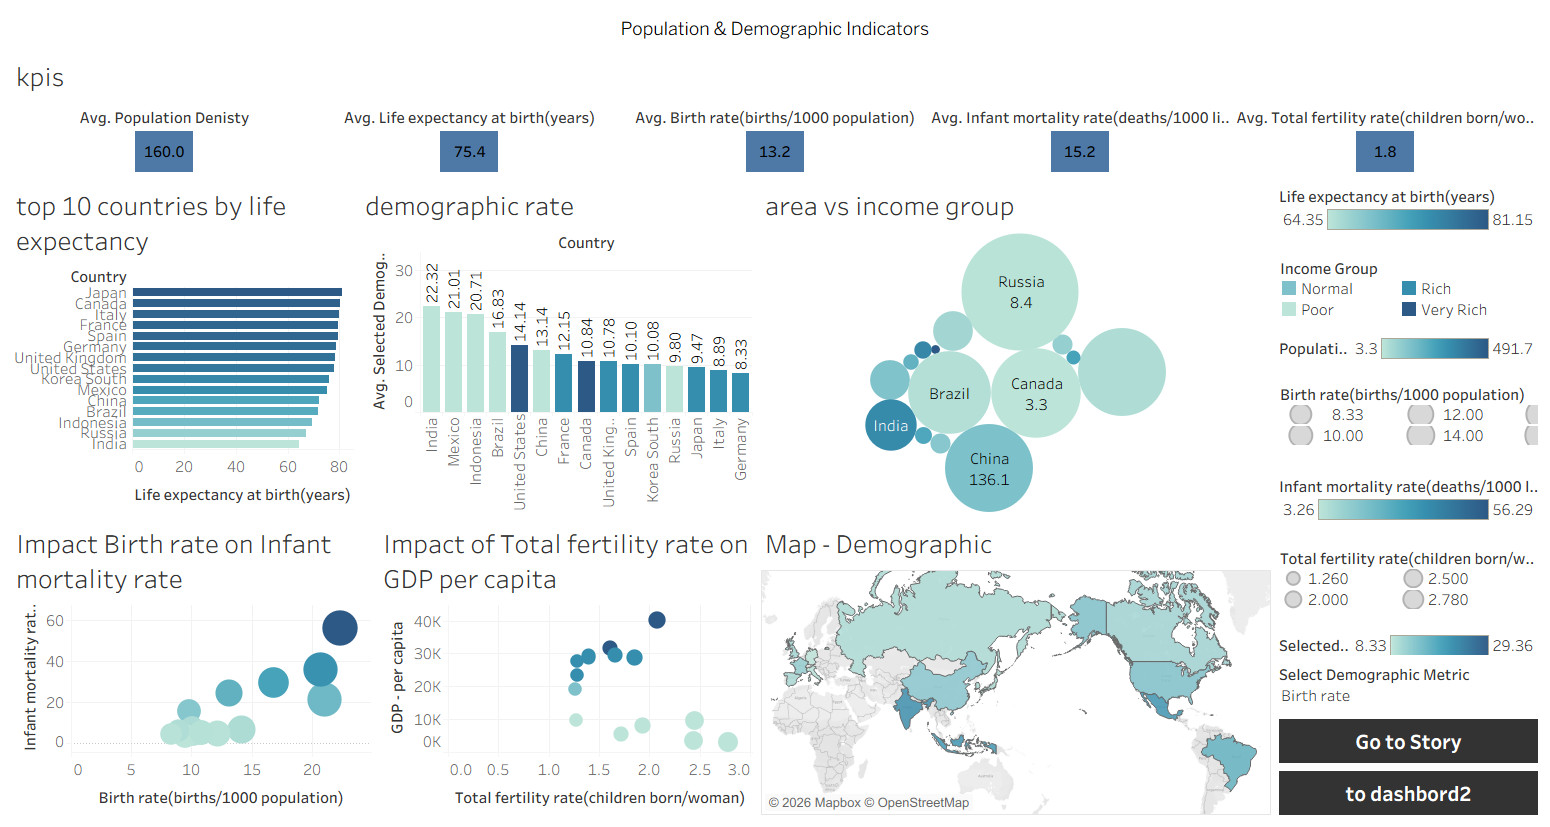

Layout of this report page (visuals, bound fields, positions):
{"tool":"tableau","page":{"name":"Dashboard 1","canvas":[1550,827],"ordinal":0},"visuals":[{"type":"text","box":[8,8,1534,41]},{"type":"worksheet","title":"kpis 1","mark":"Square","box":[8,49,1534,129]},{"type":"worksheet","title":"top 10 countries by life expectancy","mark":"Automatic","rows":["Country"],"cols":["Life expectancy at birth(years)"],"box":[8,178,349.5,337.5]},{"type":"worksheet","title":"demographic rate","mark":"Automatic","rows":["Calculation_1860428019335172"],"cols":["Country"],"box":[357.5,178,399.3,337.5]},{"type":"worksheet","title":"area vs income group","mark":"Circle","box":[756.7,178,518.3,337.5]},{"type":"legend","title":"top 10 countries by life expectancy","param":"[federated.0arbnf50yyzaqr17demmi00kzyr3].[sum:Life expectancy at birth(years):qk","box":[1275,178,267,73]},{"type":"legend","title":"demographic rate","param":"[federated.0arbnf50yyzaqr17demmi00kzyr3].[none:Calculation_1860428013744130:nk]","box":[1275,251,267,78]},{"type":"legend","title":"area vs income group","param":"[federated.0arbnf50yyzaqr17demmi00kzyr3].[sum:Calculation_1860428013441025:qk]","box":[1275,329,267,48]},{"type":"legend","title":"Impact Birth rate on Infant mortality rate","param":"[federated.0arbnf50yyzaqr17demmi00kzyr3].[sum:Birth rate(births/1000 population)","box":[1275,377,267,92]},{"type":"legend","title":"Impact Birth rate on Infant mortality rate","param":"[federated.0arbnf50yyzaqr17demmi00kzyr3].[sum:Infant mortality rate(deaths/1000 ","box":[1275,469,267,73]},{"type":"worksheet","title":"Impact Birth rate on Infant mortality rate","mark":"Circle","rows":["Infant mortality rate(deaths/1000 live births)"],"cols":["Birth rate(births/1000 population)"],"box":[8,515.5,366.8,303.5]},{"type":"worksheet","title":"Impact of Total fertility rate on GDP per capita","mark":"Circle","rows":["GDP - per capita"],"cols":["Total fertility rate(children born/woman)"],"box":[374.8,515.5,382.2,303.5]},{"type":"worksheet","title":"Map - Demographic","mark":"Automatic","box":[757,515.5,518,303.5]},{"type":"legend","title":"Impact of Total fertility rate on GDP per capita","param":"[federated.0arbnf50yyzaqr17demmi00kzyr3].[sum:Total fertility rate(children born","box":[1275,542,267,85]},{"type":"legend","title":"Map - Demographic","param":"[federated.0arbnf50yyzaqr17demmi00kzyr3].[sum:Calculation_1860428019335172:qk]","box":[1275,627,267,32]},{"type":"parameter","param":"[Parameters].[Parameter 1860428018819075]","box":[1275,659,267,56]},{"type":"dashboard-object","box":[1275,715,267,52]},{"type":"dashboard-object","box":[1275,767,267,52]}]}

Visuals, with their boxes in screenshot pixels (x1, y1, x2, y2), scaled from the page's 1550x827 canvas onto the 1550x827 screenshot:
text: [left=8, top=8, right=1542, bottom=49]
"kpis 1" worksheet (Square marks): [left=8, top=49, right=1542, bottom=178]
"top 10 countries by life expectancy" worksheet: [left=8, top=178, right=358, bottom=516]
"demographic rate" worksheet: [left=358, top=178, right=757, bottom=516]
"area vs income group" worksheet (Circle marks): [left=757, top=178, right=1275, bottom=516]
"top 10 countries by life expectancy" legend: [left=1275, top=178, right=1542, bottom=251]
"demographic rate" legend: [left=1275, top=251, right=1542, bottom=329]
"area vs income group" legend: [left=1275, top=329, right=1542, bottom=377]
"Impact Birth rate on Infant mortality rate" legend: [left=1275, top=377, right=1542, bottom=469]
"Impact Birth rate on Infant mortality rate" legend: [left=1275, top=469, right=1542, bottom=542]
"Impact Birth rate on Infant mortality rate" worksheet (Circle marks): [left=8, top=516, right=375, bottom=819]
"Impact of Total fertility rate on GDP per capita" worksheet (Circle marks): [left=375, top=516, right=757, bottom=819]
"Map - Demographic" worksheet: [left=757, top=516, right=1275, bottom=819]
"Impact of Total fertility rate on GDP per capita" legend: [left=1275, top=542, right=1542, bottom=627]
"Map - Demographic" legend: [left=1275, top=627, right=1542, bottom=659]
parameter: [left=1275, top=659, right=1542, bottom=715]
dashboard-object: [left=1275, top=715, right=1542, bottom=767]
dashboard-object: [left=1275, top=767, right=1542, bottom=819]
